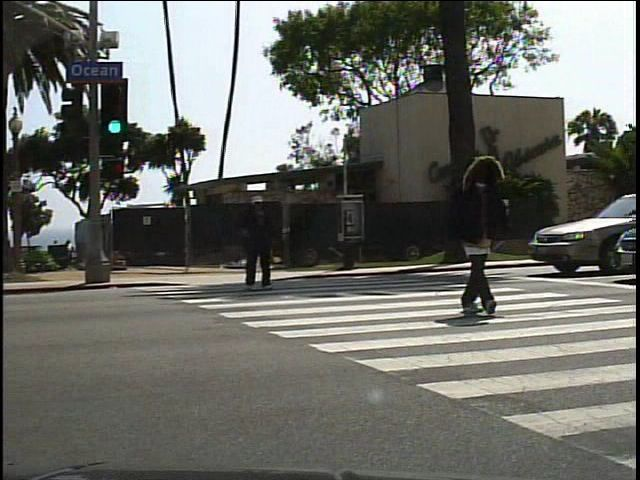person: (437, 150, 523, 324), (240, 191, 277, 298)
